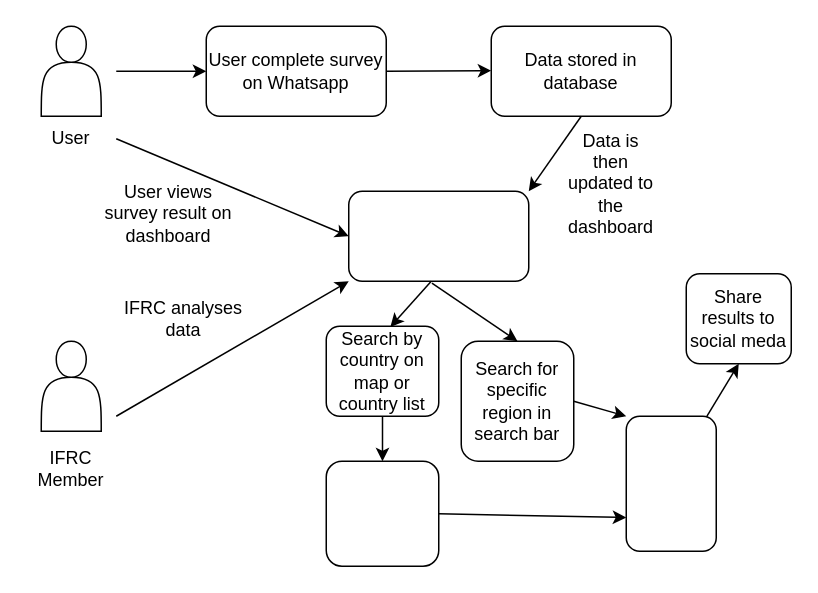
The diagram is 818 pixels wide and 593 high, and some of its shapes have lost their labels. The centre of each missing label's shape, as x and y in pixels:
Analyse / view survey response results: point 670,483
DASHBOARD: point 438,235
Select region from list of available regions: point 382,513
